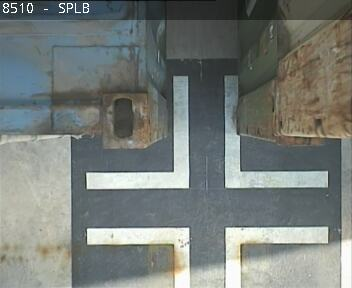groundmarker_1: (86, 75, 327, 190), (87, 226, 328, 288)
